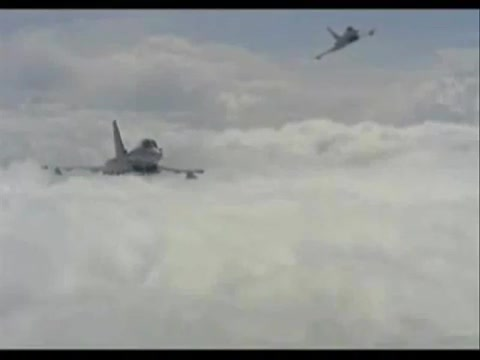aeroplane: (42, 120, 206, 182)
